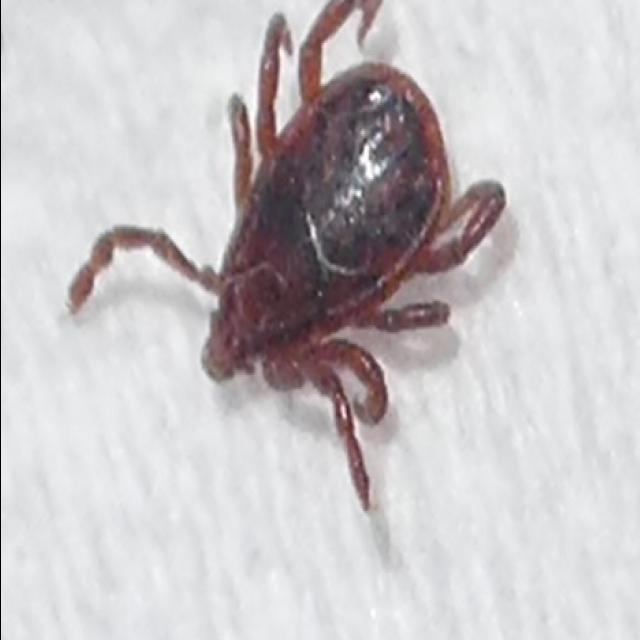Rhipicephalus Sanguineus-M: (63, 0, 505, 511)
